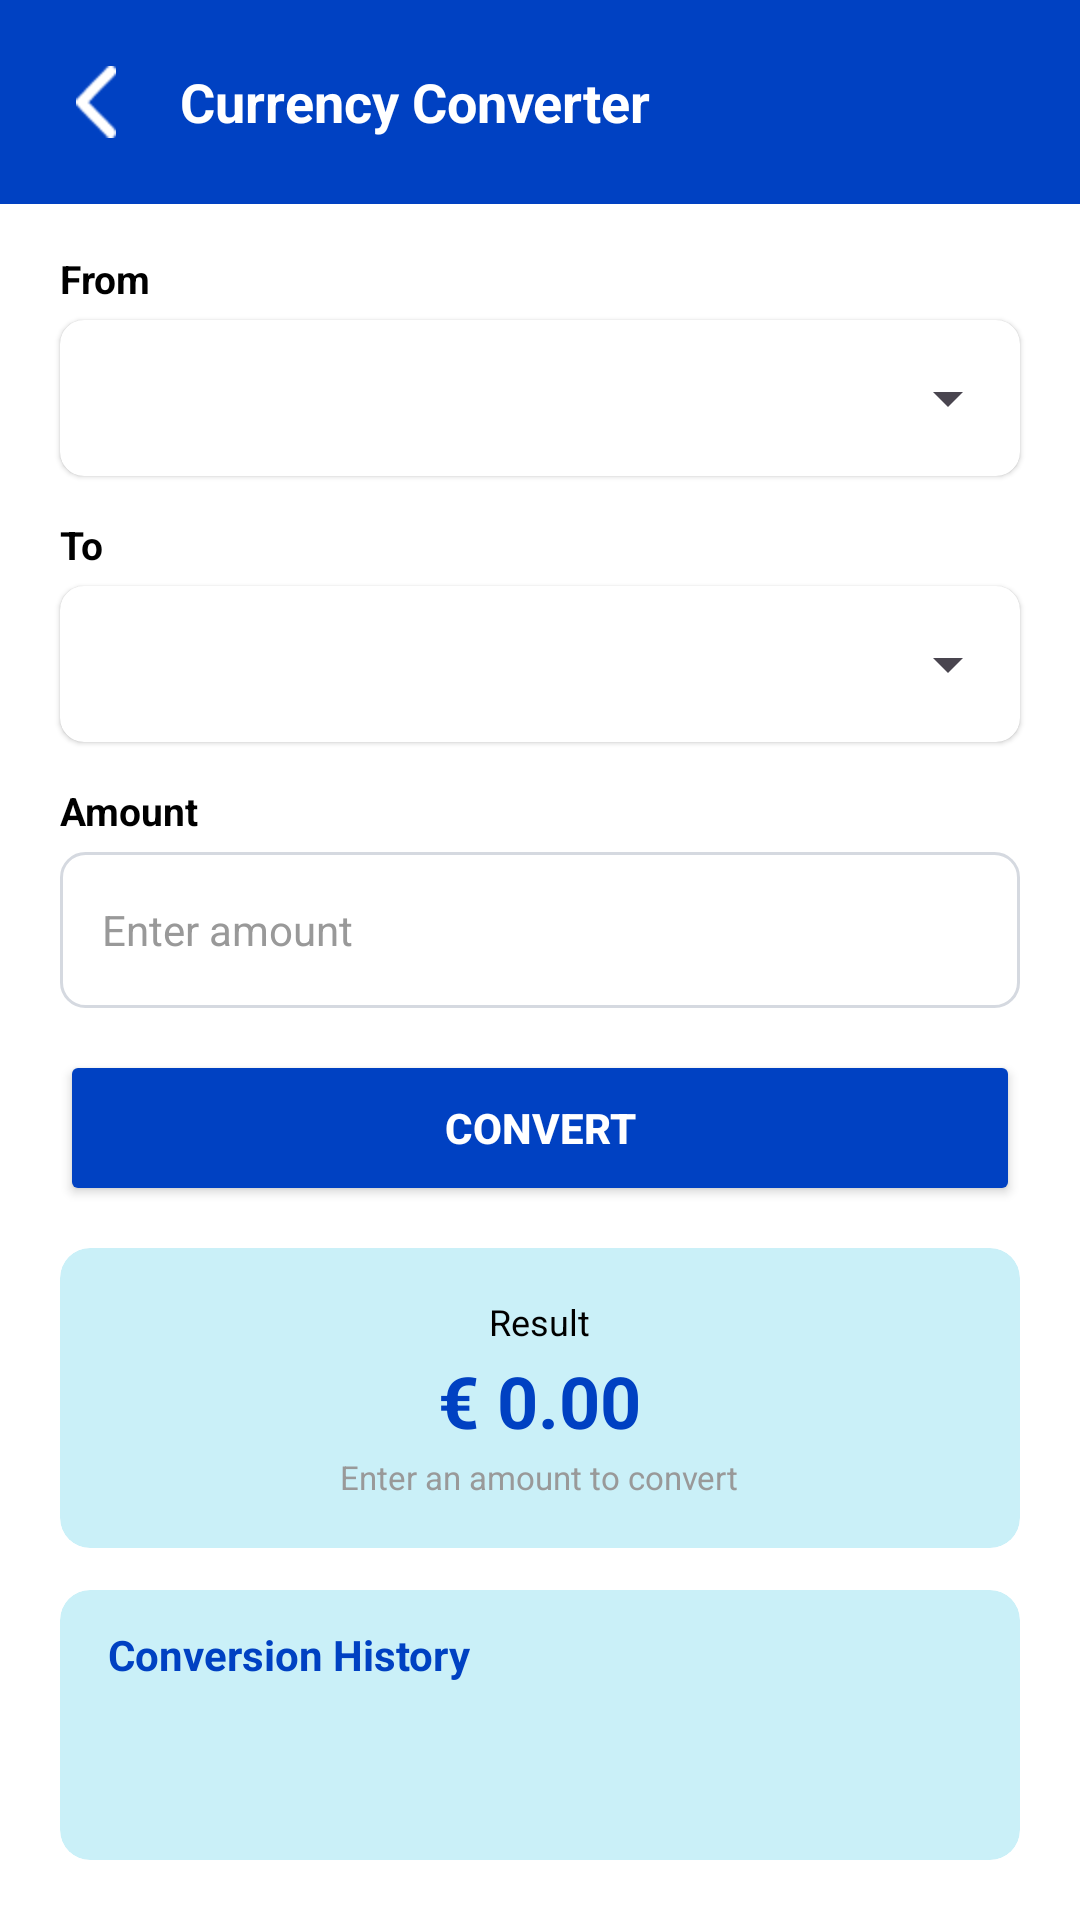

Locate icon controls on the screen. Image size 1080w x 1920h, boxes as {"left": x1, "top": y1, "right": x2, "bottom": y2}.
Back: {"left": 76, "top": 66, "right": 116, "bottom": 138}
